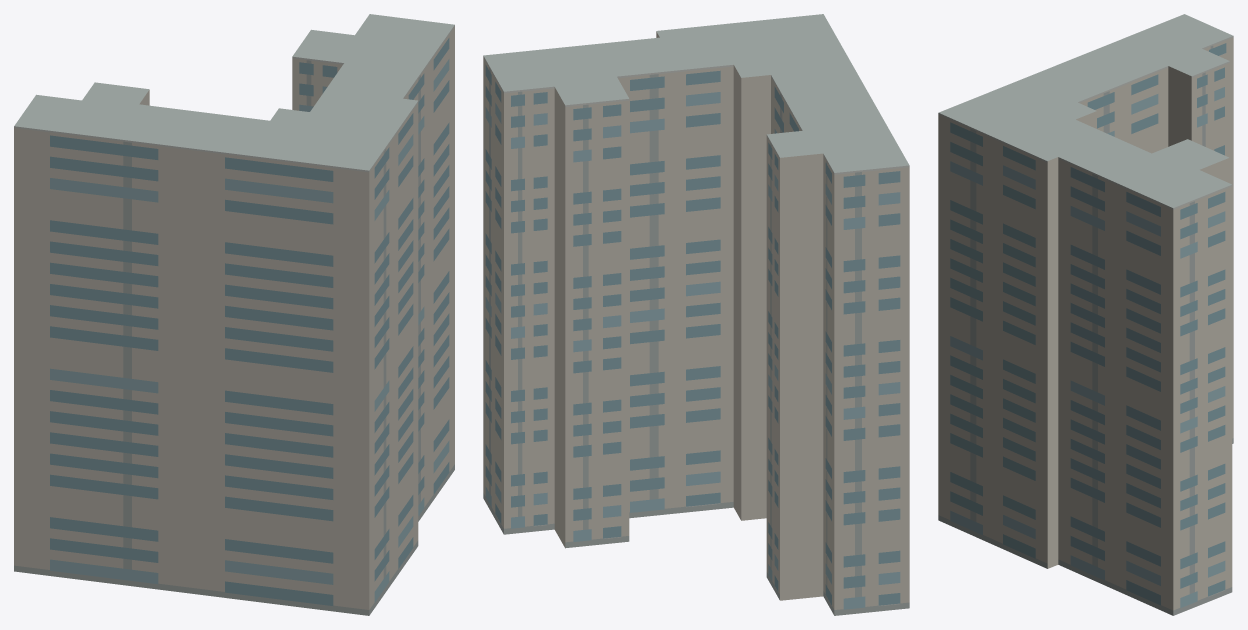
Rendered from residential-b9ae4c69-1635-4835-a286-e08444bcc550.glb.
3 renders of one model, left to right at view 1: azimuth 30°, elevation 25°; view 2: azimuth 150°, elevation 25°; view 3: azimuth 270°, elevation 25°, orthographic. The views are drawn at different scales.
Parts seen in each view (by area): view 1: residential-b9ae4c69-1635-4835-a286-e08444bcc550.tmp; view 2: residential-b9ae4c69-1635-4835-a286-e08444bcc550.tmp; view 3: residential-b9ae4c69-1635-4835-a286-e08444bcc550.tmp.
Boxes of the visible parts, box(x1,y1,x2,y2) form: residential-b9ae4c69-1635-4835-a286-e08444bcc550.tmp: box(14, 14, 454, 615); residential-b9ae4c69-1635-4835-a286-e08444bcc550.tmp: box(483, 14, 909, 615); residential-b9ae4c69-1635-4835-a286-e08444bcc550.tmp: box(938, 14, 1233, 615).
Size of the model in its own units: 65.44 by 64.05 by 42.01.
